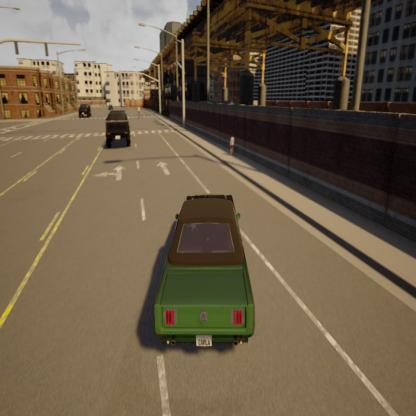Cars: (143, 176, 266, 368), (93, 99, 147, 174), (64, 84, 97, 126)
Pedestrian: (223, 129, 245, 170)
